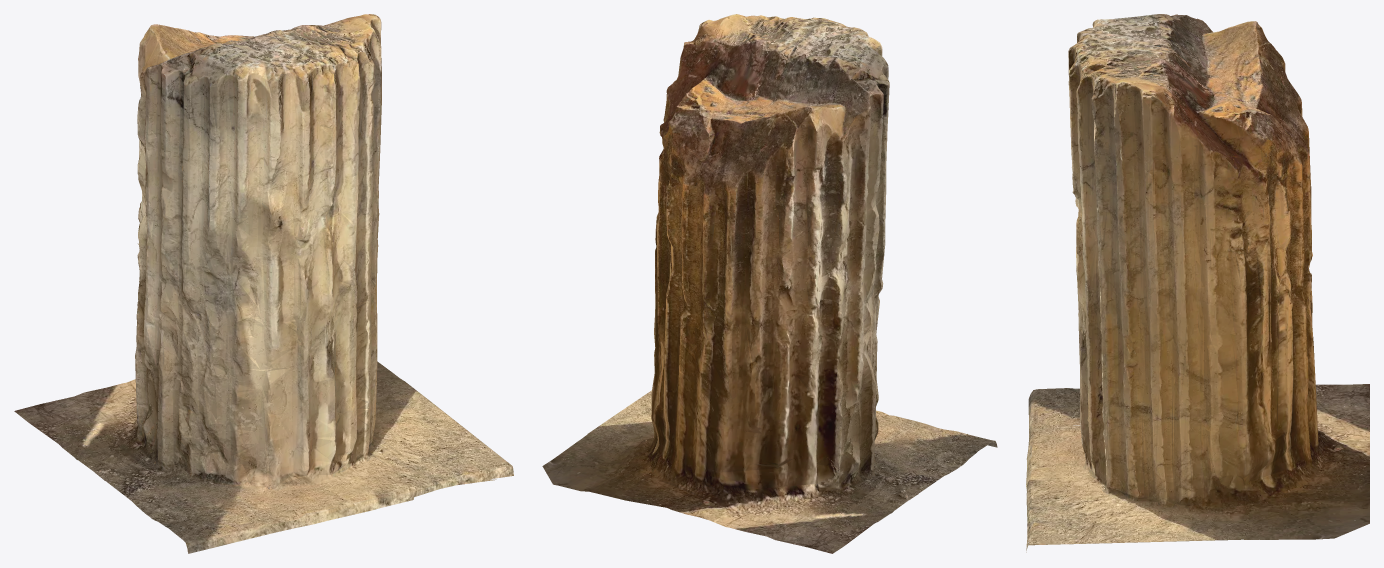
Rendered from fluted-column-fragment-byrsa-hill-cart.glb.
The picture shows the model from 3 angles, left to right: view 1: azimuth 30°, elevation 25°; view 2: azimuth 150°, elevation 25°; view 3: azimuth 270°, elevation 25°; orthographic projection. The views are drawn at different scales.
Parts seen in each view (by area): view 1: Object_2; view 2: Object_2; view 3: Object_2.
Boxes of the visible parts, x1=… form: Object_2: x1=14, y1=14, x2=513, y2=553; Object_2: x1=542, y1=14, x2=997, y2=553; Object_2: x1=1026, y1=14, x2=1369, y2=552.
Size of the model in its own units: 0.7228 by 0.9309 by 0.6778.
Materials: 1 (1 with a texture image).
